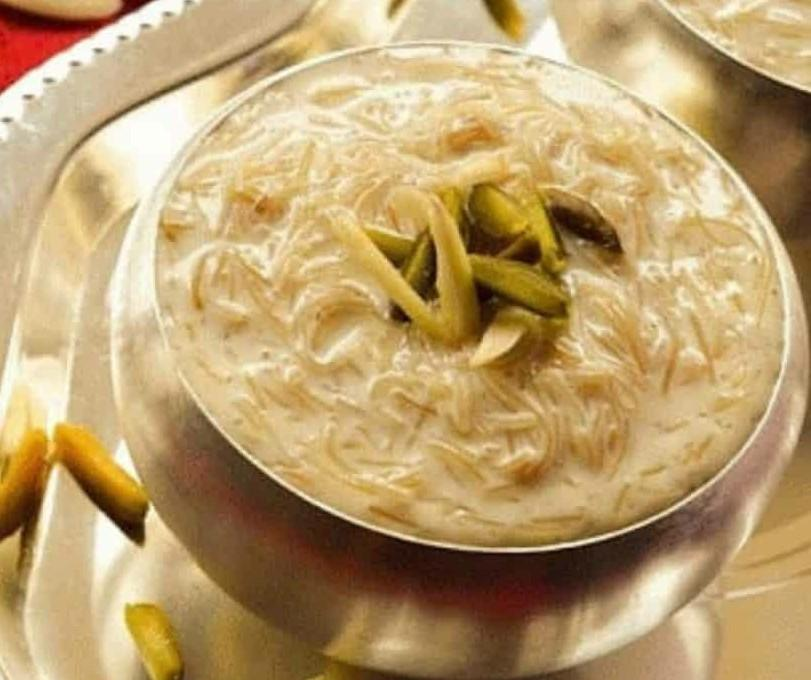Kheer: (166, 42, 771, 539)
